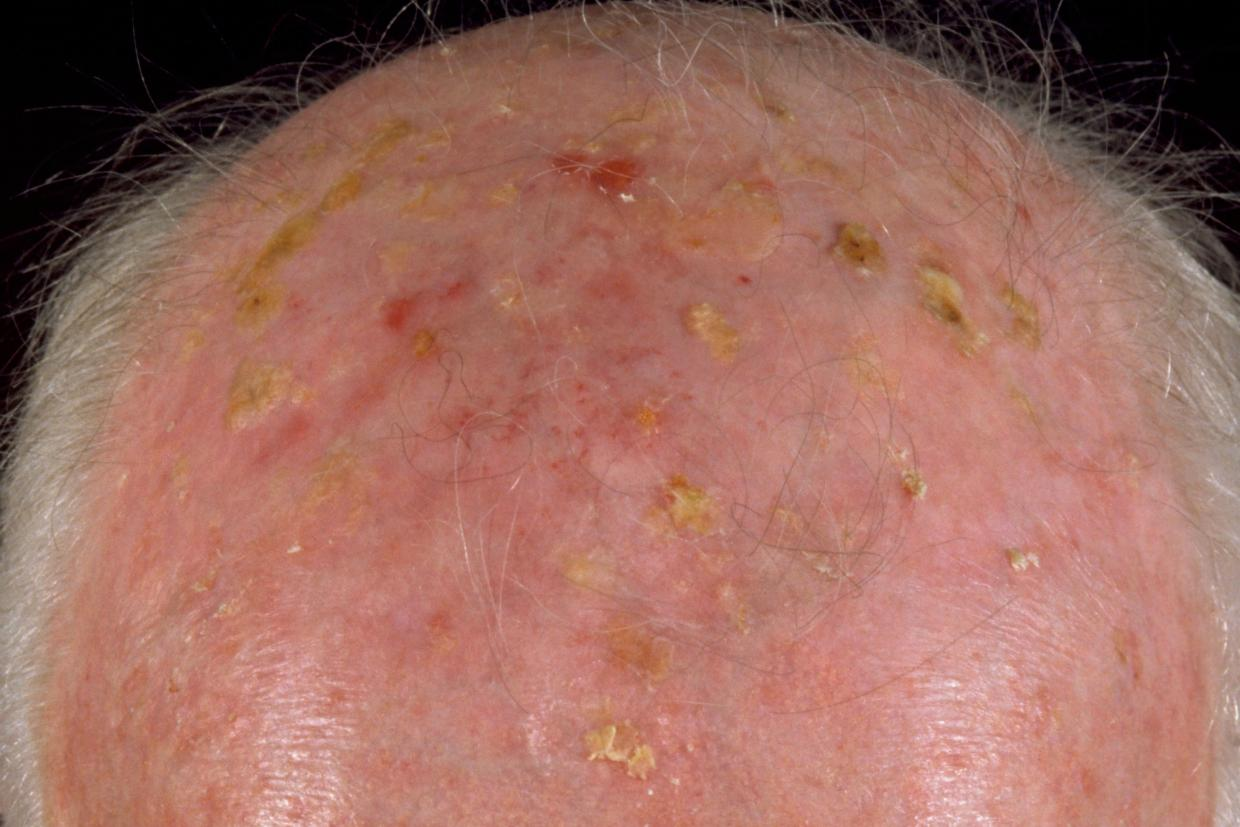Actinic Keratosis: (238, 78, 1136, 827)
